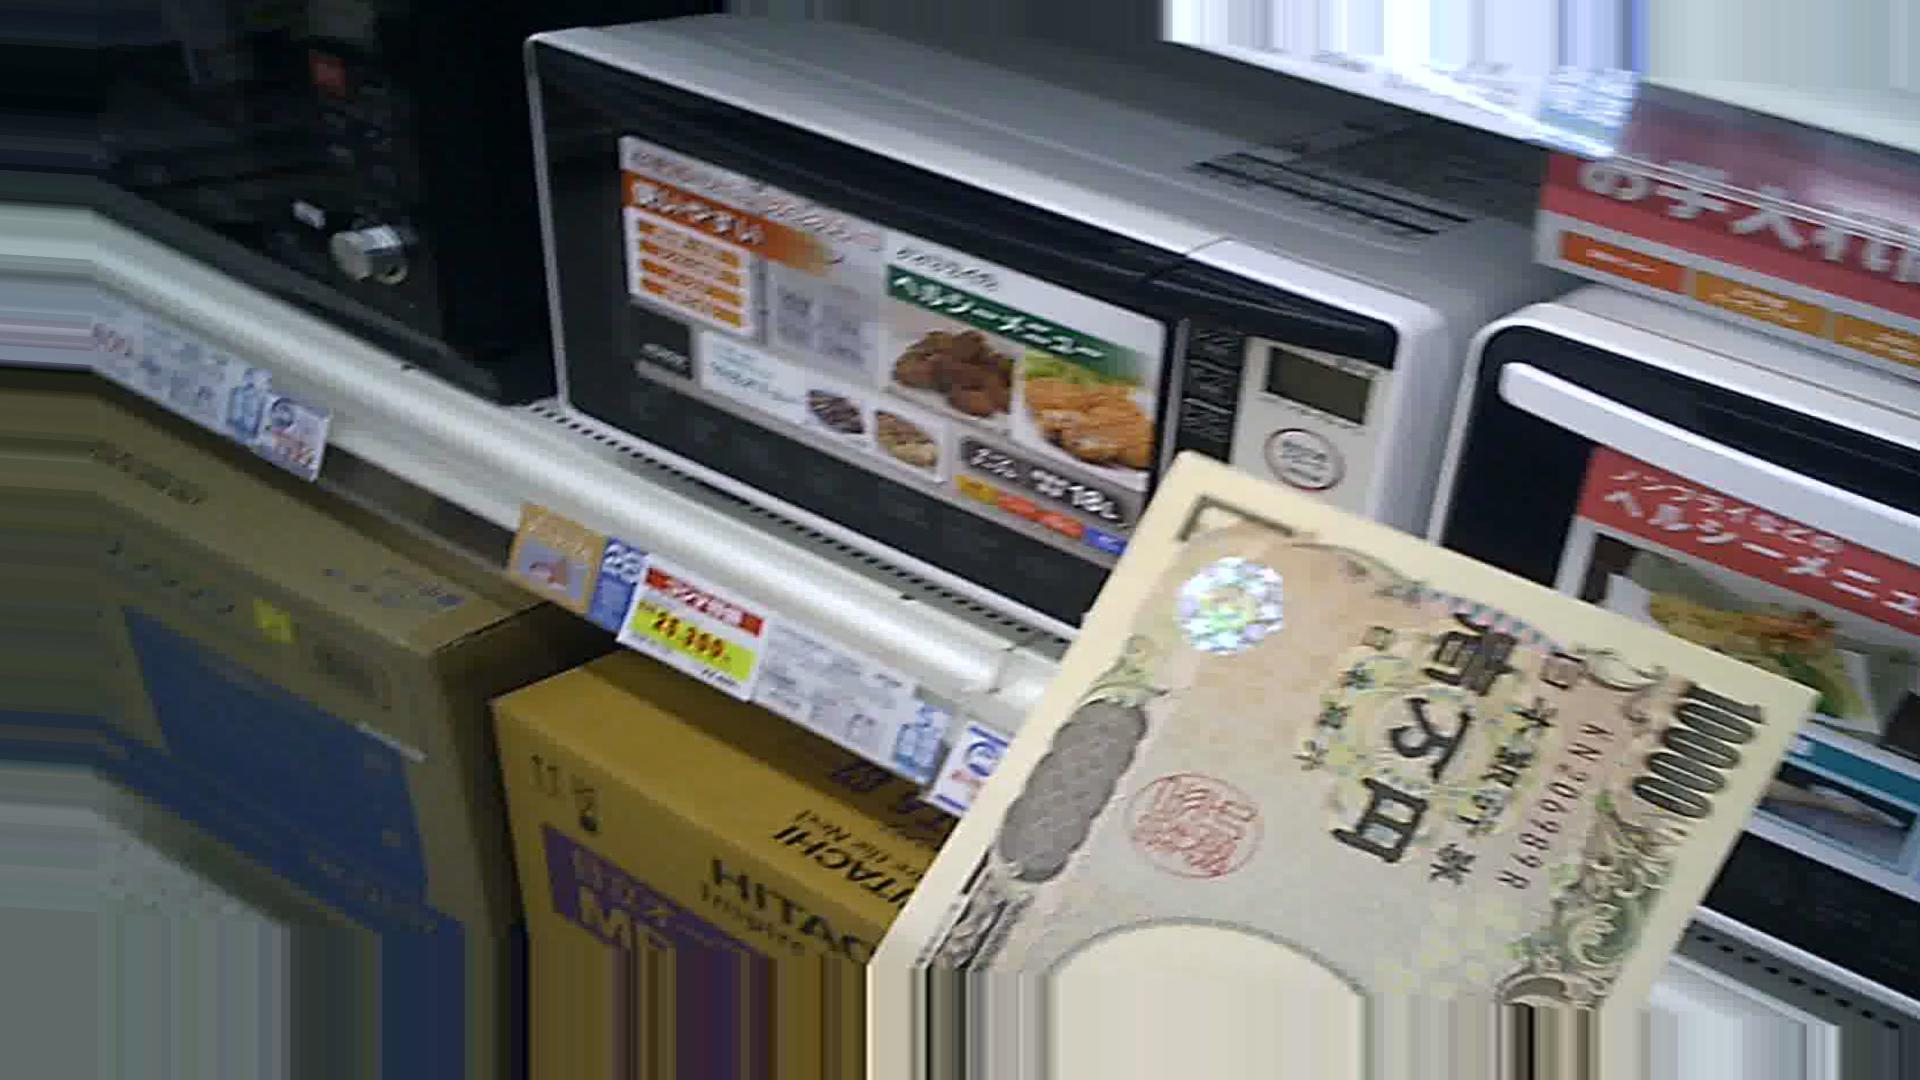10,000 Yen: (897, 451, 1803, 1010)
